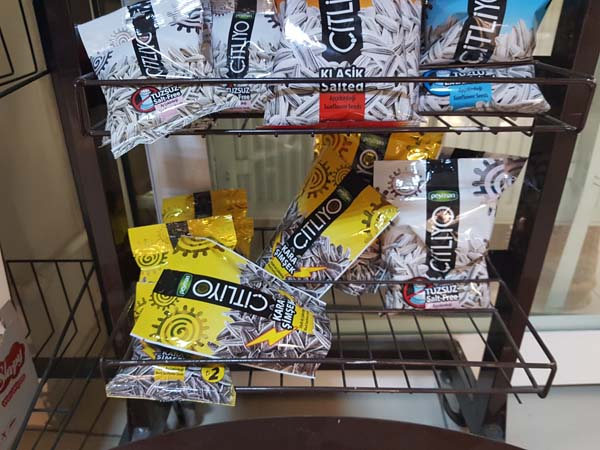citliyorkarasisimsek: (135, 232, 341, 380), (268, 144, 395, 309)
citliyorklasik: (266, 1, 427, 132)
